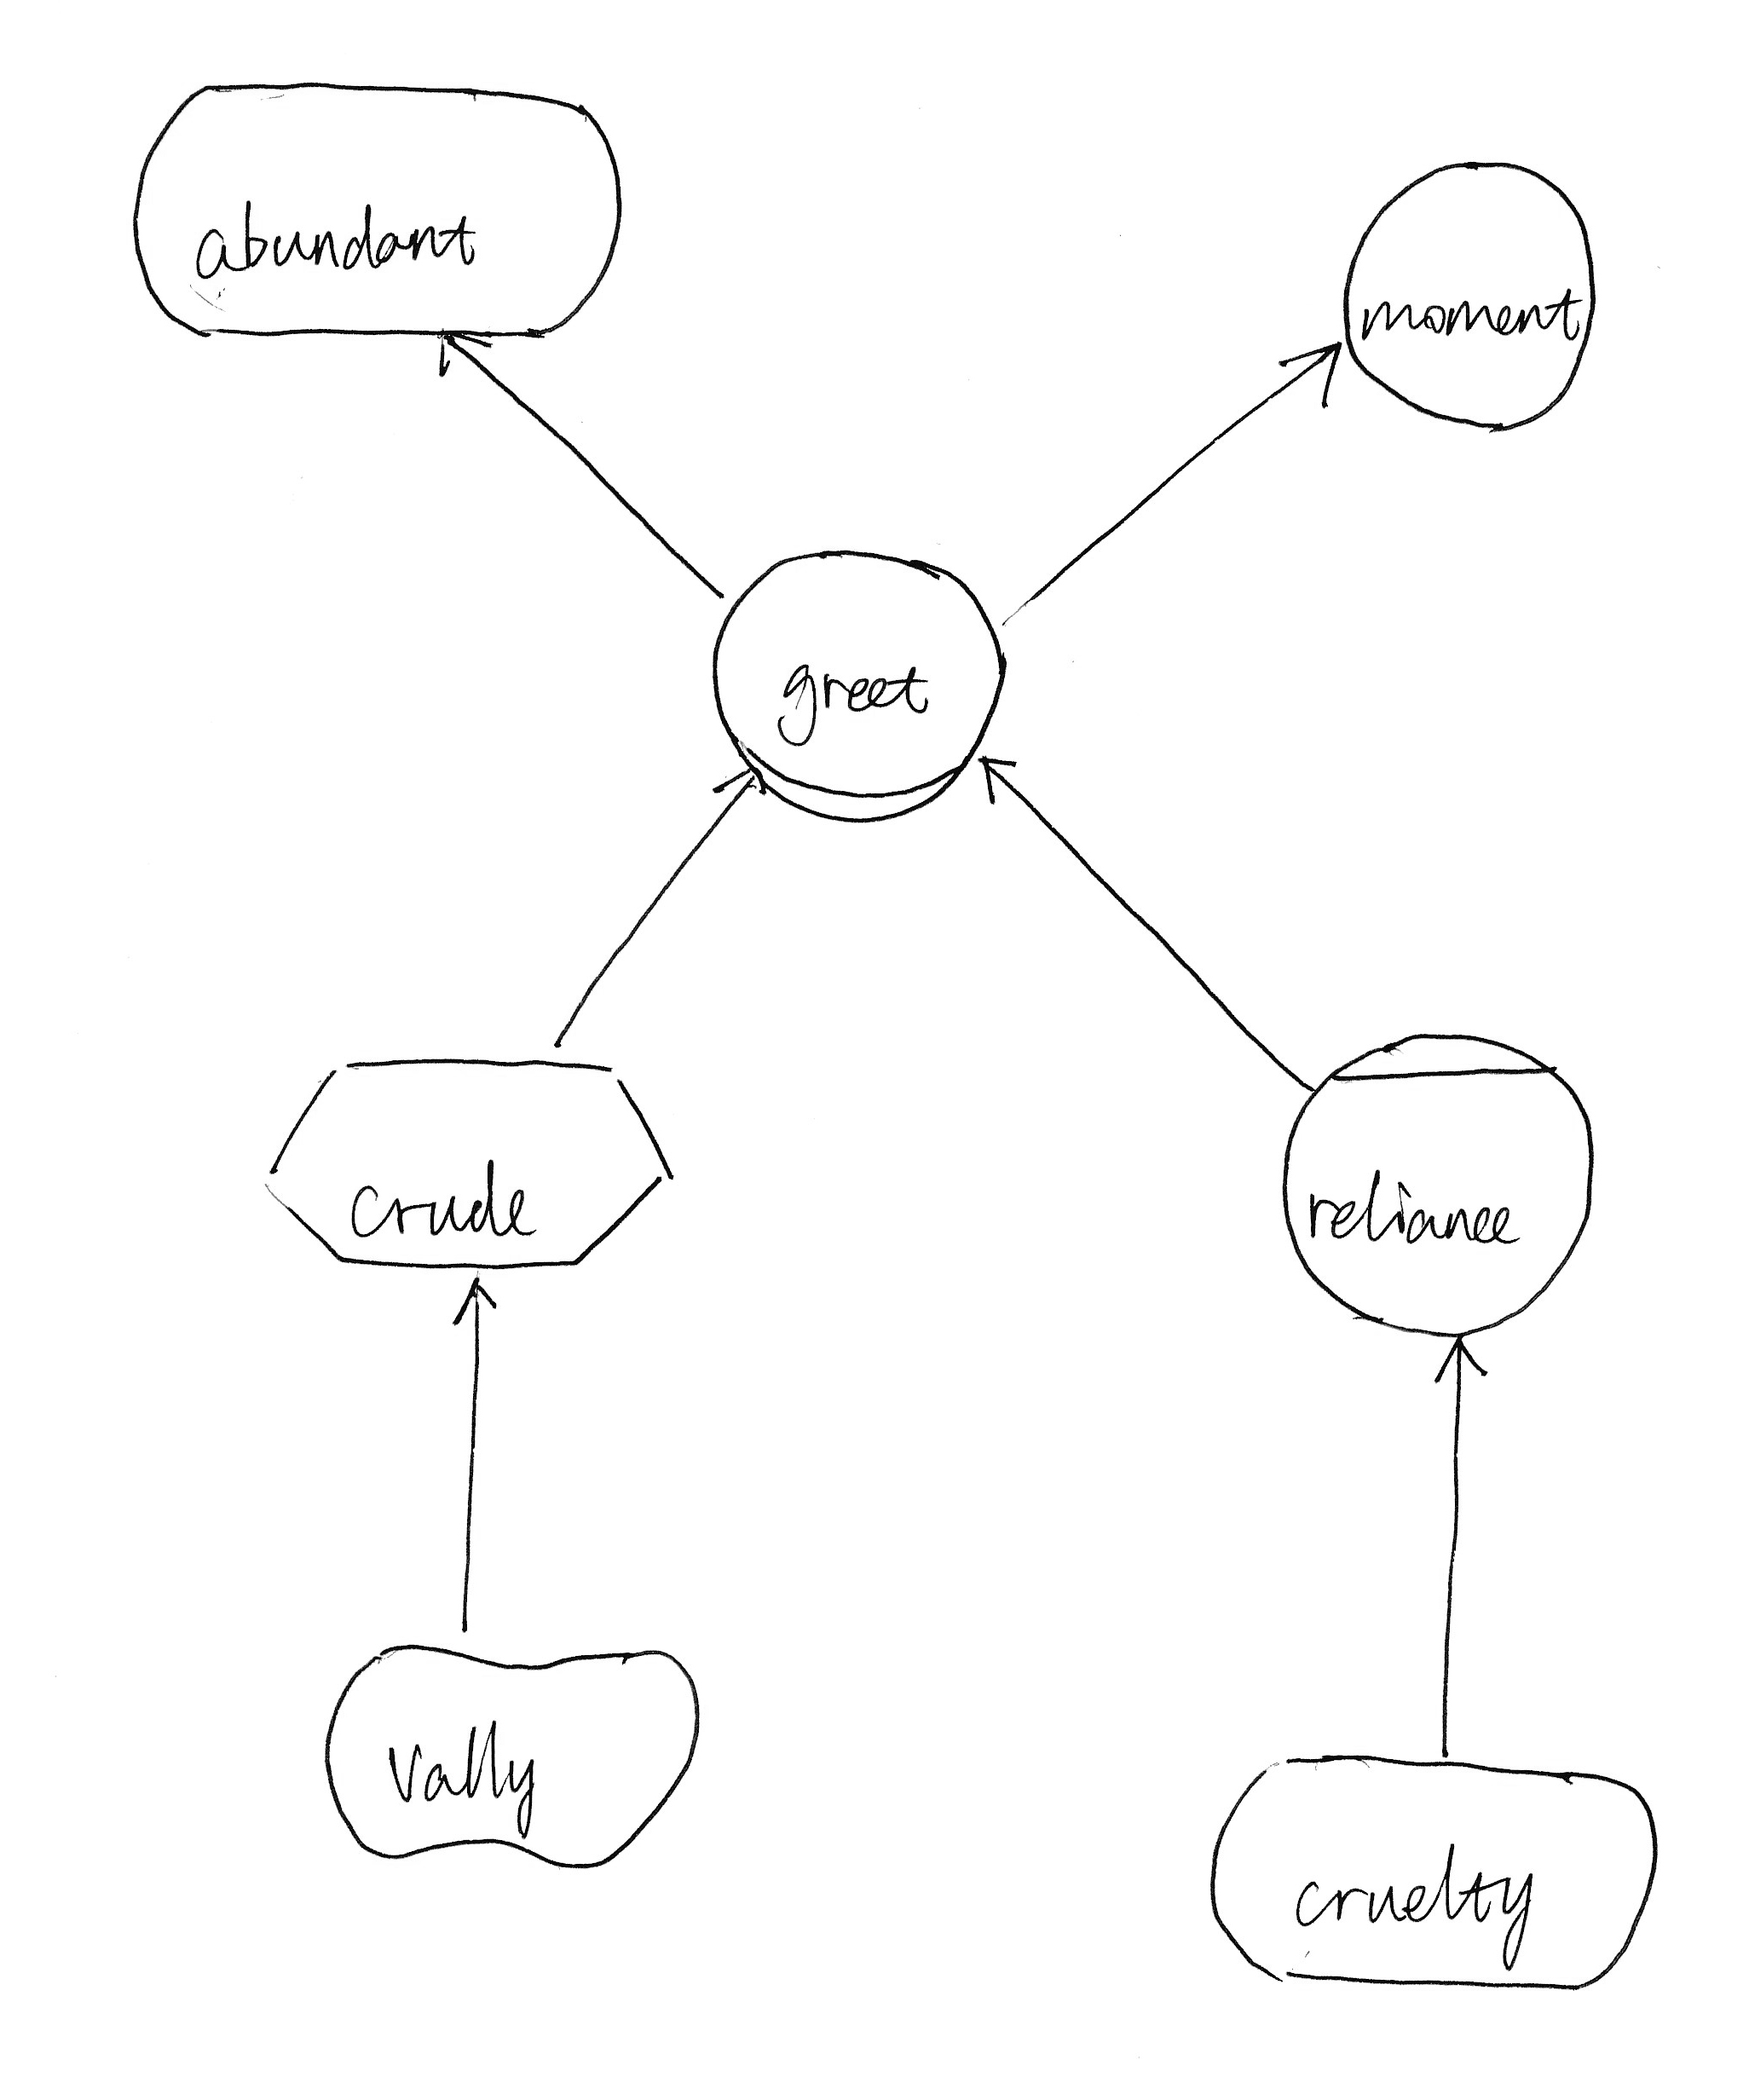actor: (1320, 141, 1613, 448)
agent: (1266, 1012, 1615, 1353)
arrow: (1275, 324, 1348, 441), (419, 324, 506, 387), (1423, 1327, 1494, 1402), (698, 757, 776, 823), (446, 1270, 513, 1347), (970, 740, 1034, 818)
goal: (117, 58, 635, 361), (1191, 1735, 1674, 2002)
quality: (302, 1620, 727, 1894)
role: (694, 534, 1015, 841)
task: (249, 1041, 691, 1285)
